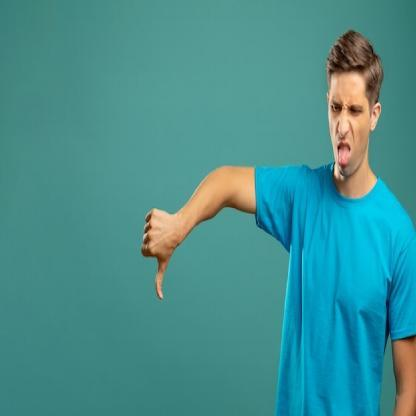thumb_down: (141, 206, 178, 304)
